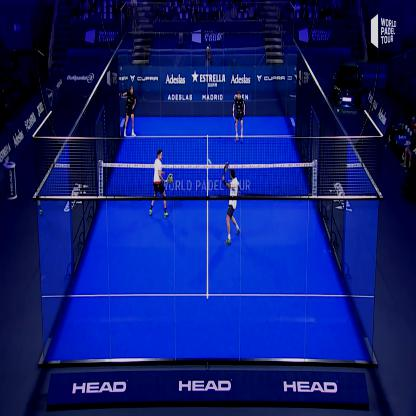ball: (206, 156, 216, 168)
